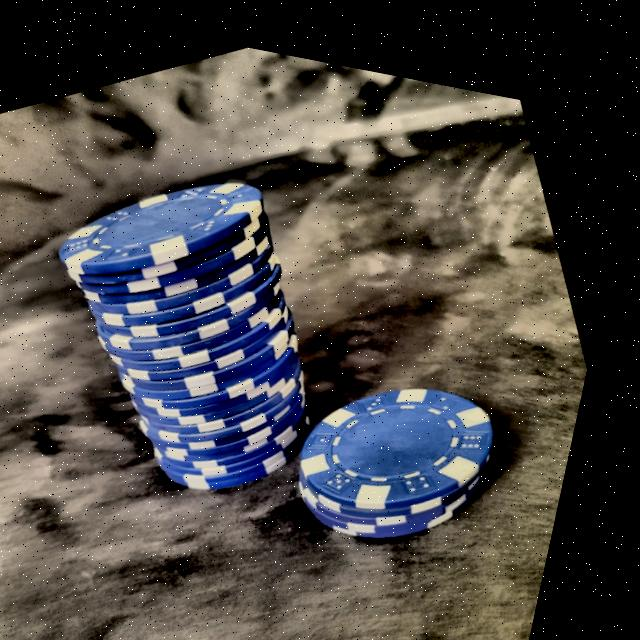Chip: (2, 110, 413, 547), (251, 290, 567, 590)
